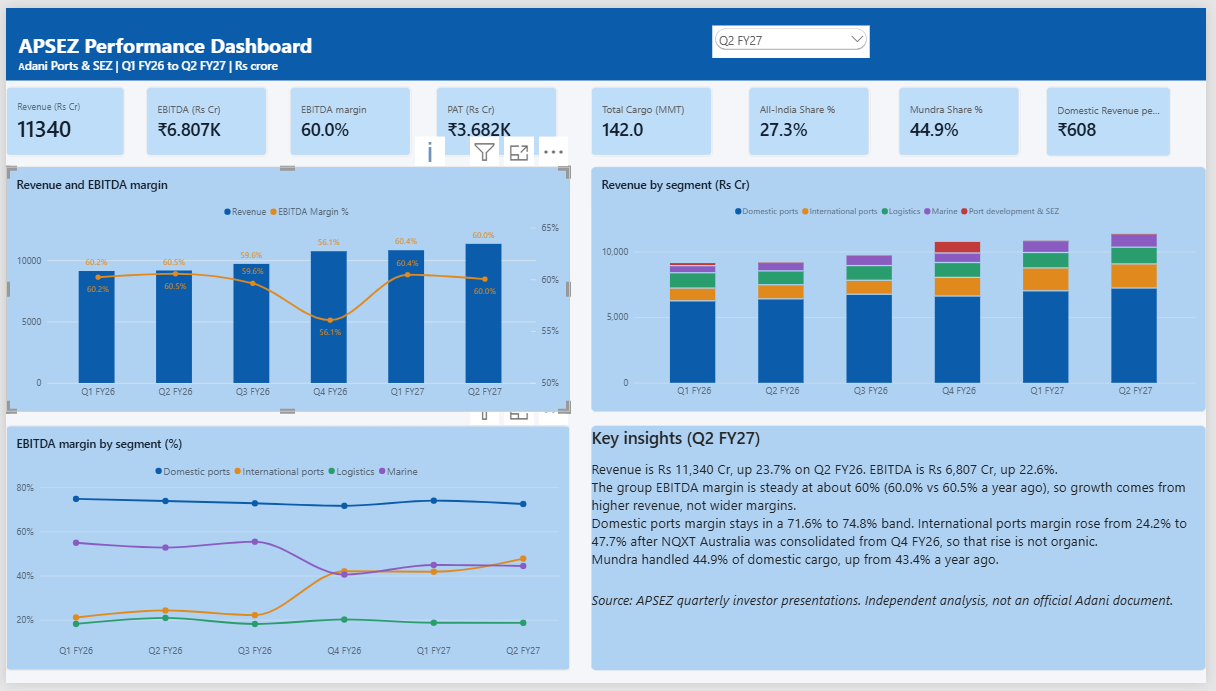

This screenshot's page, from the dashboard's own definition file:
{"tool":"powerbi","page":{"name":"Executive Overview","canvas":[1920,1080],"ordinal":0},"visuals":[{"type":"textbox","box":[0,0,1920,116],"z":0},{"type":"slicer","fields":{"Values":["dim_quarter.quarter_key"]},"box":[1130,28,252,52],"z":1000},{"type":"cardVisual","fields":{"Data":["_Measures.Revenue"]},"box":[0,126.7,190,111.7],"z":2000},{"type":"cardVisual","fields":{"Data":["_Measures.EBITDA"]},"box":[223.3,126.7,194.9,111.9],"z":3000},{"type":"cardVisual","fields":{"Data":["_Measures.EBITDA Margin %"]},"box":[453.3,126.7,194.9,111.9],"z":4000},{"type":"cardVisual","fields":{"Data":["_Measures.PAT"]},"box":[688.3,126.7,194.9,111.9],"z":5000},{"type":"cardVisual","fields":{"Data":["_Measures.Total Cargo (MMT)"]},"box":[935,126.7,194.9,111.9],"z":6000},{"type":"cardVisual","fields":{"Data":["_Measures.All-India Share %"]},"box":[1188.3,126.7,194.9,111.9],"z":7000},{"type":"lineClusteredColumnComboChart","title":"Revenue and EBITDA margin","fields":{"Category":["dim_quarter.quarter_key"],"Y":["_Measures.Revenue"],"Y2":["_Measures.EBITDA Margin %"]},"box":[0,254,902,392],"z":8000},{"type":"columnChart","title":"Revenue by segment (Rs Cr)","fields":{"Category":["dim_quarter.quarter_key"],"Series":["dim_segment.segment"],"Y":["_Measures.Segment Revenue"]},"box":[936,254,984,392],"z":9000},{"type":"lineChart","title":"EBITDA margin by segment (%)","fields":{"Category":["dim_quarter.quarter_key"],"Series":["dim_segment.segment"],"Y":["_Measures.Segment Margin %"]},"box":[0,668,902,392],"z":10000},{"type":"textbox","box":[936,668,984,392],"z":11000},{"type":"cardVisual","fields":{"Data":["_Measures.Mundra Share %"]},"box":[1428,126,194.9,111.9],"z":11001},{"type":"cardVisual","fields":{"Data":["_Measures.Domestic Revenue per Tonne (Rs)"]},"box":[1664,126,200,112],"z":11002}]}

Visuals, with their boxes in screenshot pixels (x1, y1, x2, y2), scaled from the page's 1920x1080 canvas onto the 1216x691 screenshot:
textbox: [x1=0, y1=0, x2=1215, y2=74]
slicer - dim_quarter.quarter_key: [x1=716, y1=18, x2=875, y2=51]
cardVisual - _Measures.Revenue: [x1=0, y1=81, x2=120, y2=153]
cardVisual - _Measures.EBITDA: [x1=141, y1=81, x2=265, y2=153]
cardVisual - _Measures.EBITDA Margin %: [x1=287, y1=81, x2=411, y2=153]
cardVisual - _Measures.PAT: [x1=436, y1=81, x2=559, y2=153]
cardVisual - _Measures.Total Cargo (MMT): [x1=592, y1=81, x2=716, y2=153]
cardVisual - _Measures.All-India Share %: [x1=753, y1=81, x2=876, y2=153]
"Revenue and EBITDA margin" lineClusteredColumnComboChart: [x1=0, y1=163, x2=571, y2=413]
"Revenue by segment (Rs Cr)" columnChart: [x1=593, y1=163, x2=1215, y2=413]
"EBITDA margin by segment (%)" lineChart: [x1=0, y1=427, x2=571, y2=678]
textbox: [x1=593, y1=427, x2=1215, y2=678]
cardVisual - _Measures.Mundra Share %: [x1=904, y1=81, x2=1028, y2=152]
cardVisual - _Measures.Domestic Revenue per Tonne (Rs): [x1=1054, y1=81, x2=1181, y2=152]
